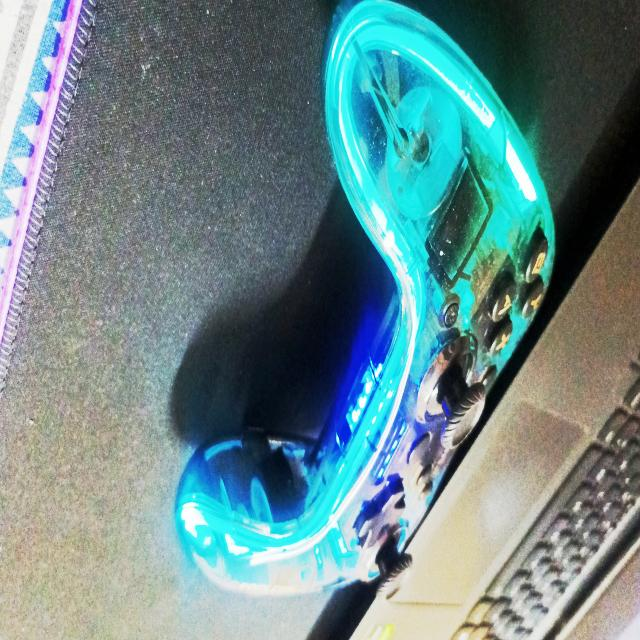gamepad: (173, 0, 557, 601)
